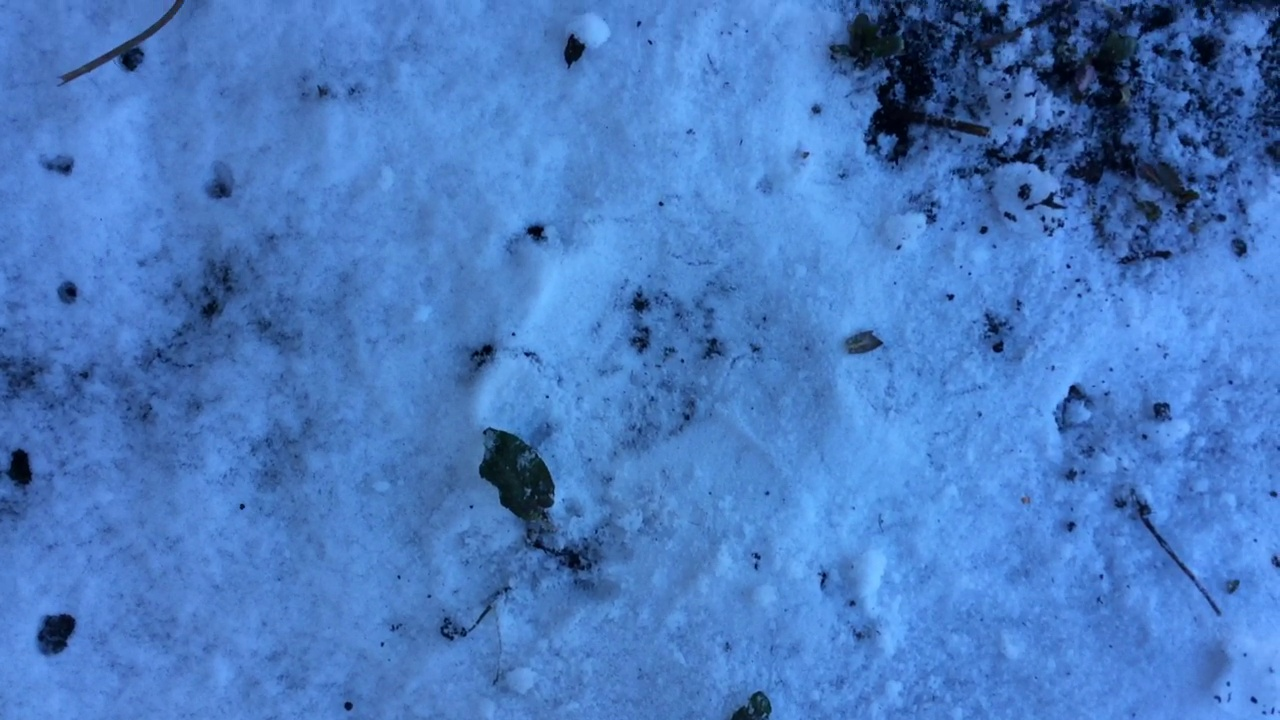root: (519, 524, 555, 557)
rumex: (473, 418, 571, 561)
